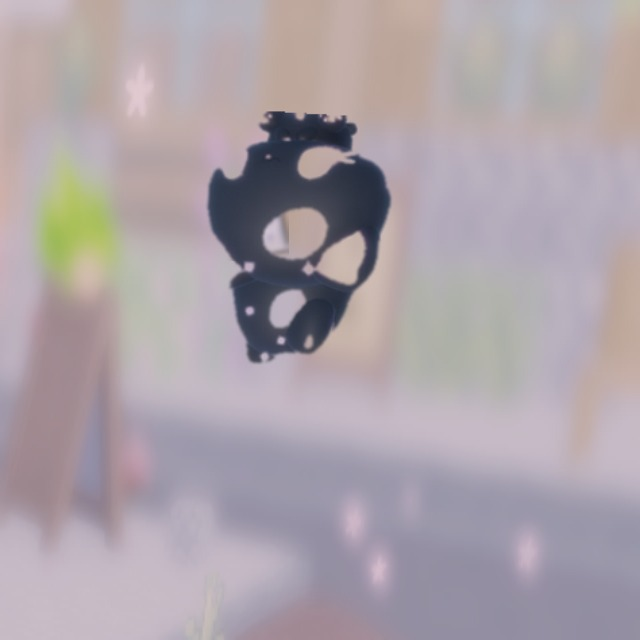urso_branco: (225, 202, 289, 261)
urso_preto: (177, 106, 405, 389)
